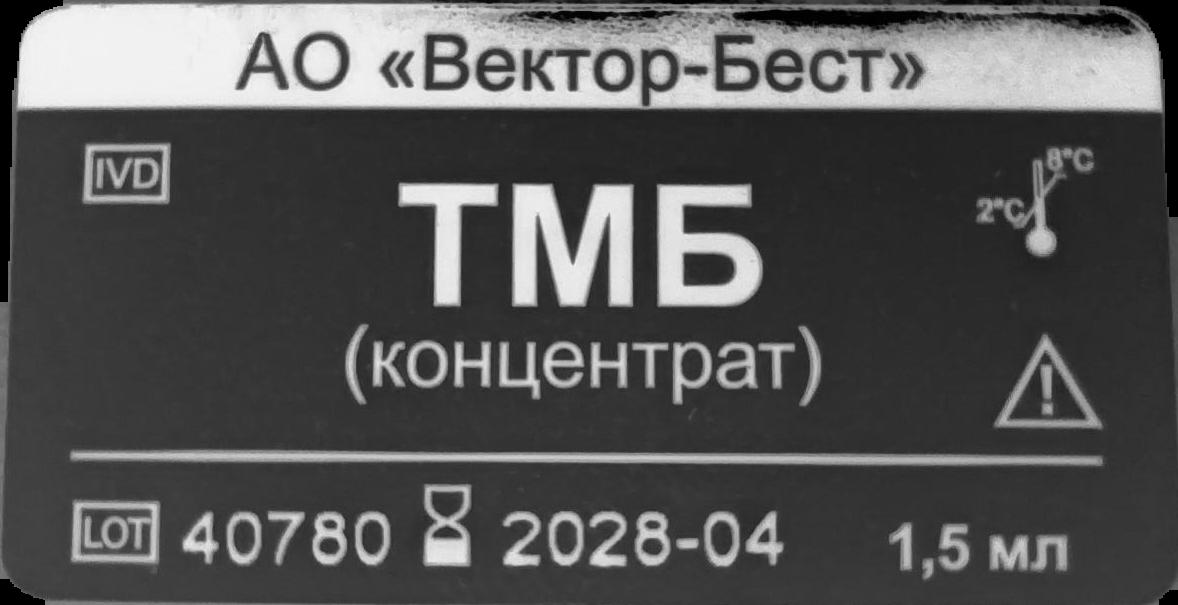something: (969, 142, 1100, 264), (994, 328, 1104, 437), (67, 499, 166, 571), (79, 139, 179, 207), (419, 481, 472, 573)
text: (343, 168, 826, 413), (226, 19, 931, 112), (499, 500, 798, 569), (172, 507, 394, 576), (877, 521, 1080, 588)
